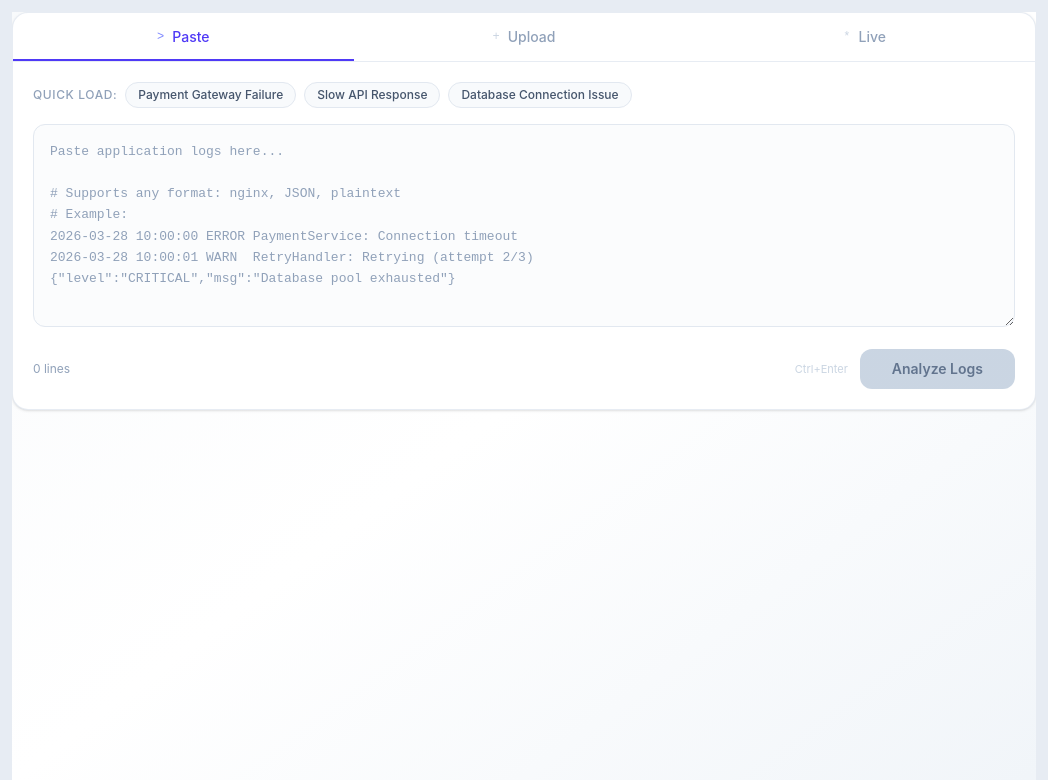
Test: LogInput › shows upload zone when upload tab clicked
Click the button "+ Upload" at point(524, 37), box [354,13,694,61]
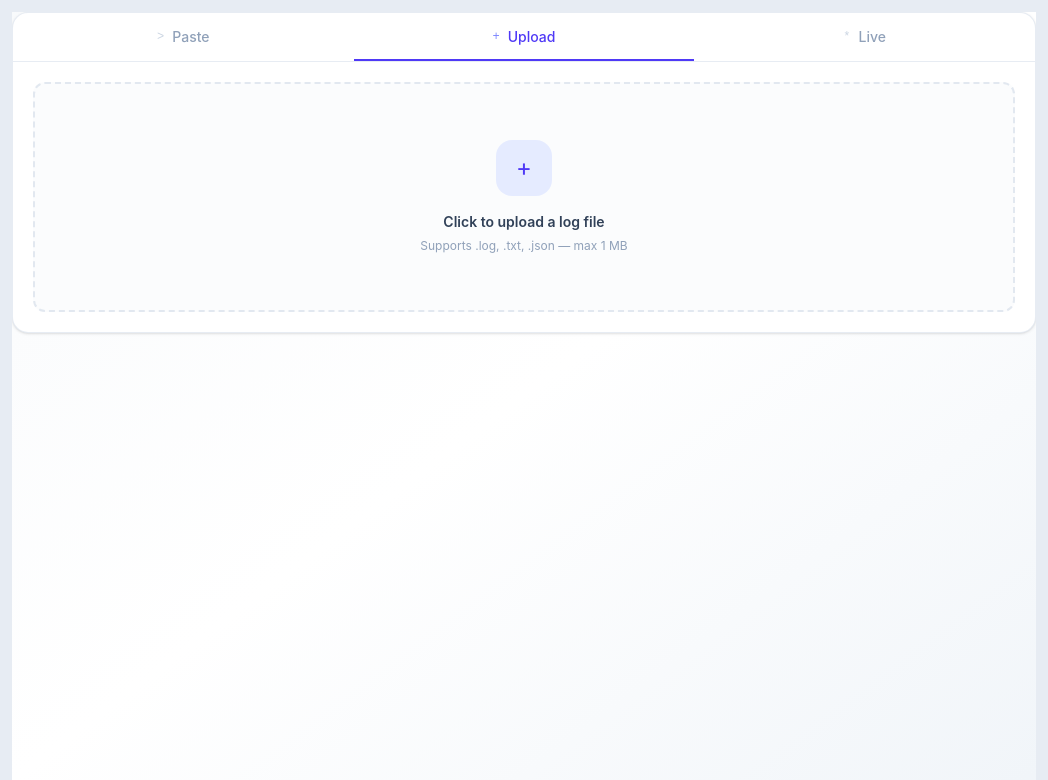
Expected: the text "Click to upload a log file" is shown, [443,212,605,232]
